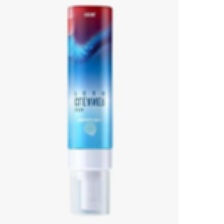cleaning_solution: (64, 4, 114, 217)
